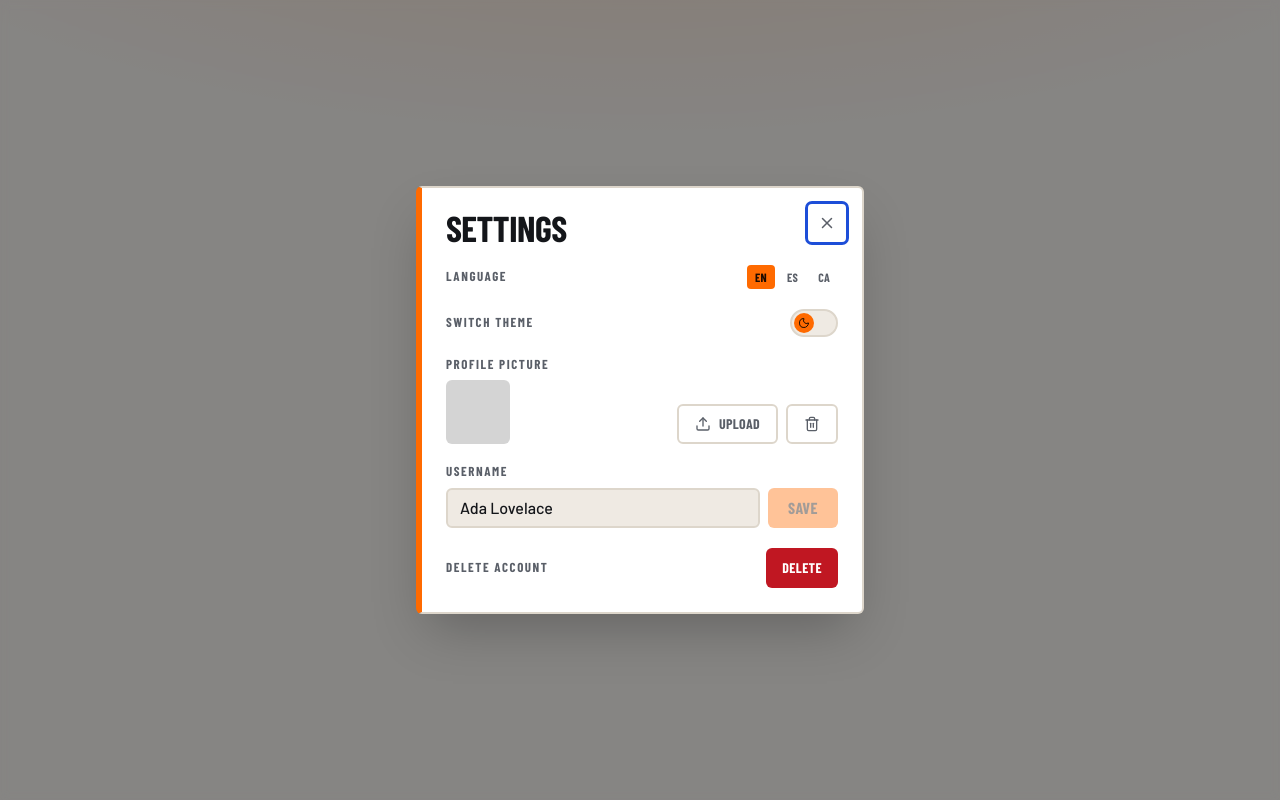
Test: SettingsModal picture › surfaces the error the server returned
Click the button named "Remove picture" at (812, 424), box x1=786 y1=404 x2=838 y2=444
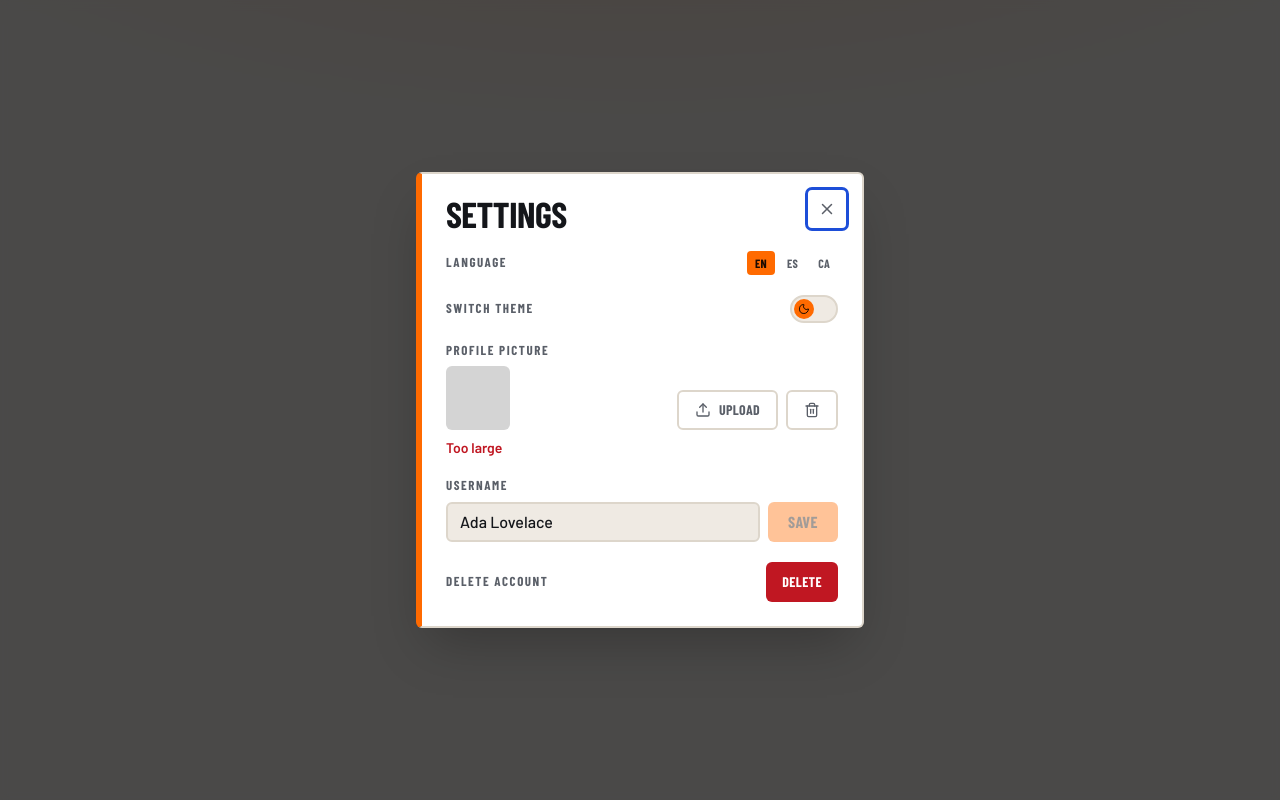
Expected: the message reads "Too large", x1=446 y1=439 x2=502 y2=456
